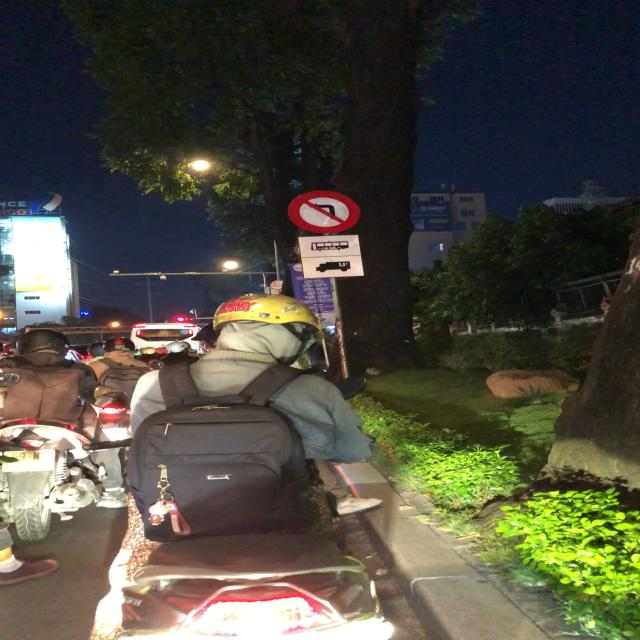Bien bao cam re trai: (284, 188, 361, 235)
